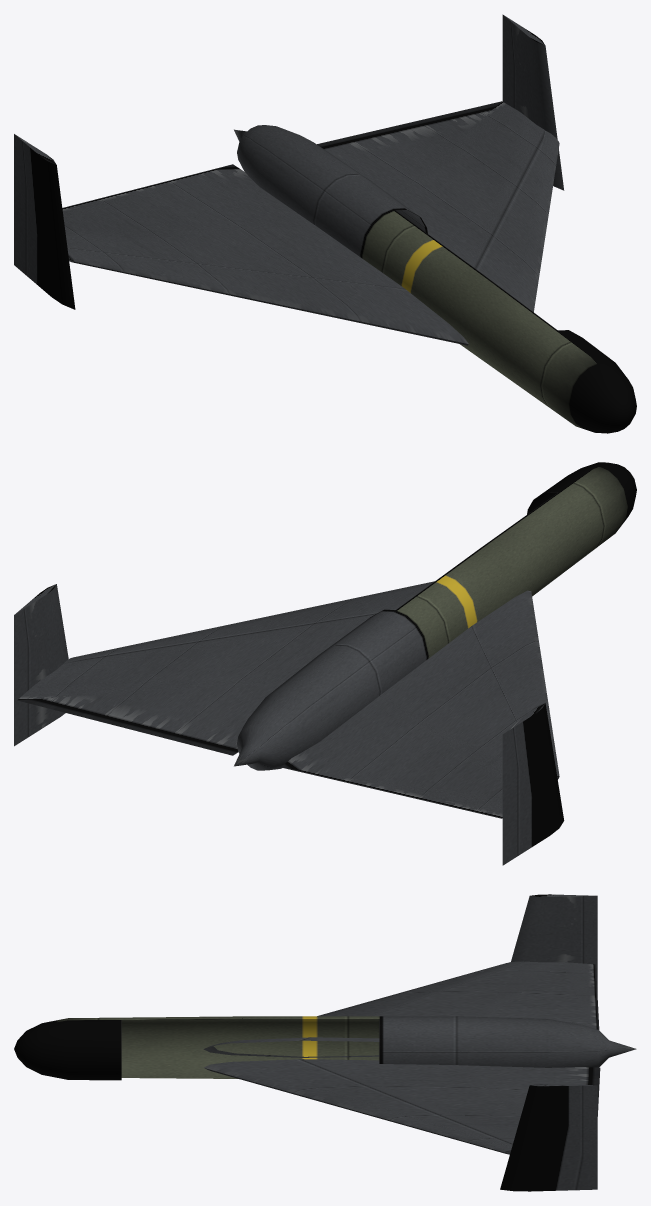
File: drone_body_lod1.obj
3 renders of one model, top to bottom at view 1: azimuth 30°, elevation 25°; view 2: azimuth 150°, elevation 25°; view 3: azimuth 270°, elevation 25°, orthographic. The views are drawn at different scales.
Size of the model in its own units: 2.62 by 0.66 by 3.57.
